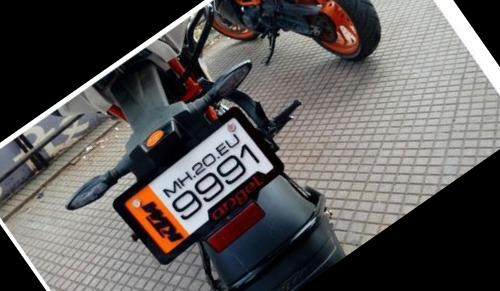plate: (111, 117, 282, 267)
